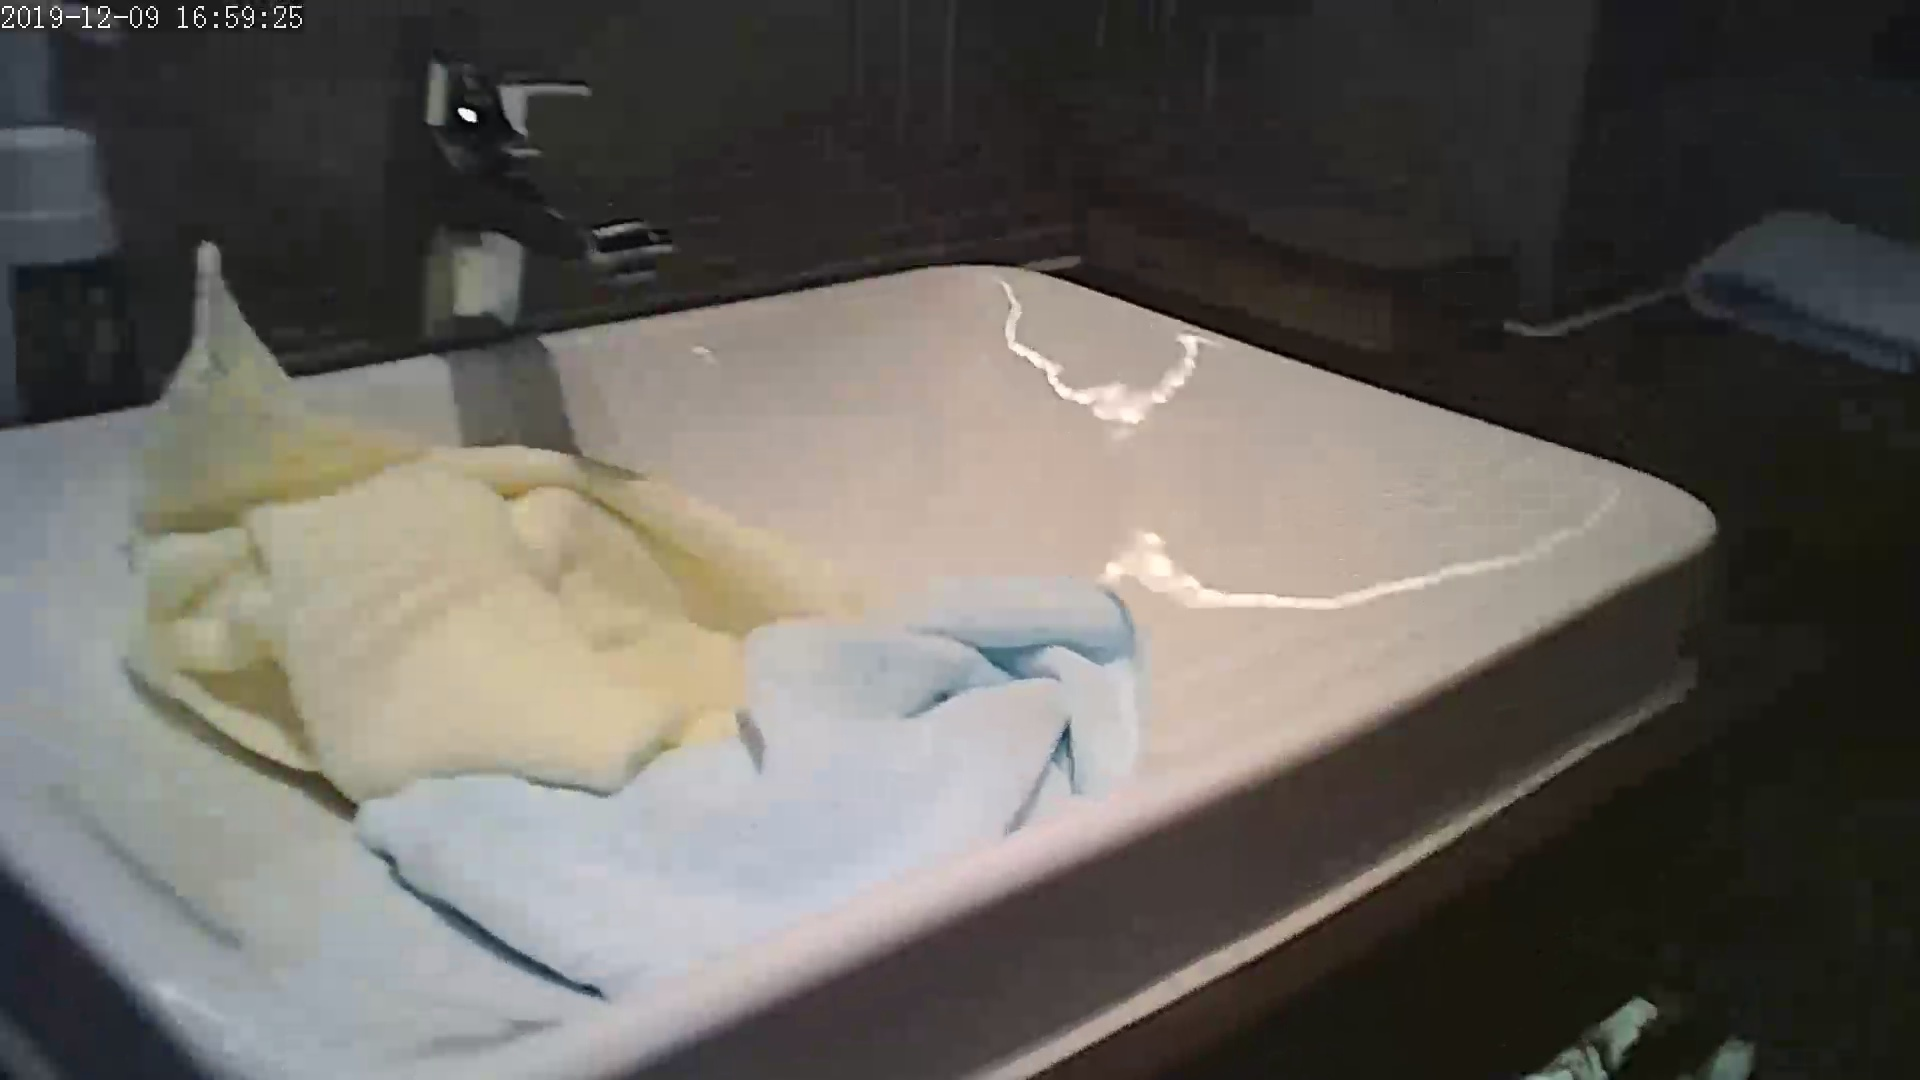bluecloth: (653, 599, 1134, 939)
sink: (11, 59, 1730, 1059)
yellowcloth: (186, 382, 644, 767)
